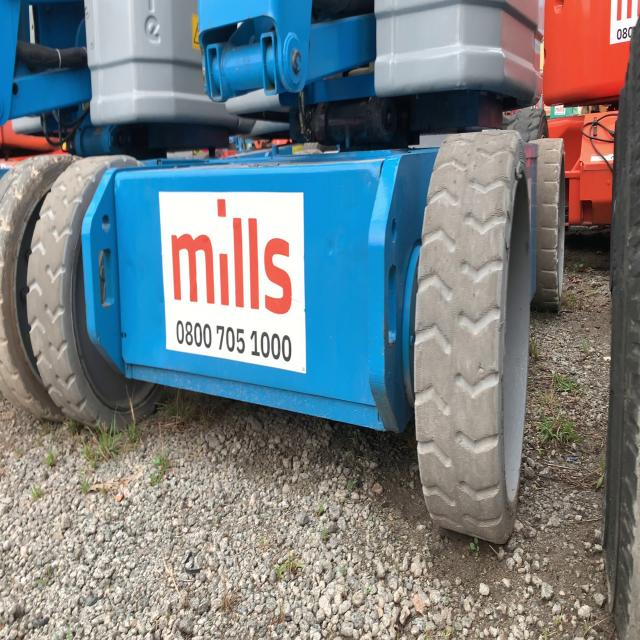Adesivos: (155, 187, 309, 379)
